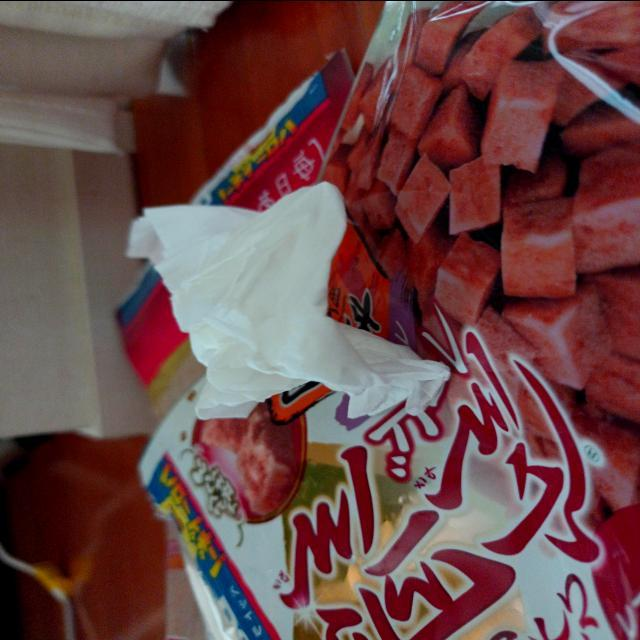Paper: (133, 169, 397, 399)
